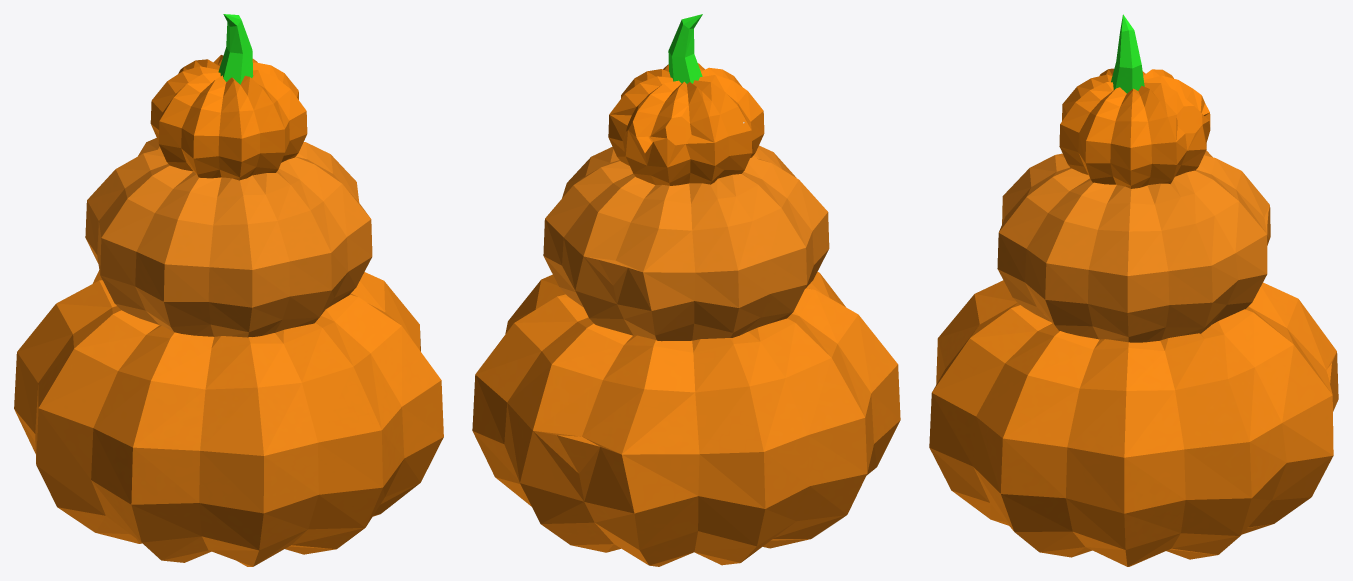
The model's file is Abobora_04_Root.fbx.
3 renders of one model, left to right at view 1: azimuth 30°, elevation 25°; view 2: azimuth 150°, elevation 25°; view 3: azimuth 270°, elevation 25°, orthographic. The views are drawn at different scales.
Parts seen in each view (by area): view 1: Abobora_04_frag_087, Abobora_04_frag_043, Abobora_04_frag_016, Abobora_04_frag_115, Abobora_04_frag_121, Abobora_04_frag_035, Abobora_04_frag_056, Abobora_04_frag_044, Abobora_04_frag_045, Abobora_04_frag_049, Abobora_04_frag_011, Abobora_04_frag_116 (+29 smaller); view 2: Abobora_04_frag_033, Abobora_04_frag_029, Abobora_04_frag_110, Abobora_04_frag_075, Abobora_04_frag_083, Abobora_04_frag_007, Abobora_04_frag_060, Abobora_04_frag_070, Abobora_04_frag_050, Abobora_04_frag_058, Abobora_04_frag_027, Abobora_04_frag_114 (+33 smaller); view 3: Abobora_04_frag_054, Abobora_04_frag_039, Abobora_04_frag_051, Abobora_04_frag_048, Abobora_04_frag_041, Abobora_04_frag_090, Abobora_04_frag_017, Abobora_04_frag_066, Abobora_04_frag_018, Abobora_04_frag_033, Abobora_04_frag_014, Abobora_04_frag_072 (+31 smaller).
Boxes of the visible parts, bbox=[...] form: Abobora_04_frag_087: bbox=[171, 374, 292, 524]; Abobora_04_frag_043: bbox=[280, 385, 395, 503]; Abobora_04_frag_016: bbox=[95, 369, 196, 480]; Abobora_04_frag_115: bbox=[36, 386, 113, 509]; Abobora_04_frag_121: bbox=[278, 329, 391, 441]; Abobora_04_frag_035: bbox=[228, 233, 328, 336]; Abobora_04_frag_056: bbox=[109, 461, 207, 560]; Abobora_04_frag_044: bbox=[82, 312, 228, 380]; Abobora_04_frag_045: bbox=[107, 258, 228, 336]; Abobora_04_frag_049: bbox=[98, 194, 203, 287]; Abobora_04_frag_011: bbox=[163, 164, 291, 259]; Abobora_04_frag_116: bbox=[165, 62, 282, 134]; Abobora_04_frag_033: bbox=[608, 73, 743, 183]; Abobora_04_frag_029: bbox=[708, 320, 840, 411]; Abobora_04_frag_110: bbox=[582, 173, 703, 268]; Abobora_04_frag_075: bbox=[563, 221, 679, 333]; Abobora_04_frag_083: bbox=[513, 357, 596, 497]; Abobora_04_frag_007: bbox=[733, 406, 807, 525]; Abobora_04_frag_060: bbox=[700, 179, 778, 266]; Abobora_04_frag_070: bbox=[550, 363, 619, 508]; Abobora_04_frag_050: bbox=[768, 395, 852, 529]; Abobora_04_frag_058: bbox=[609, 429, 694, 511]; Abobora_04_frag_027: bbox=[599, 334, 712, 390]; Abobora_04_frag_114: bbox=[573, 485, 692, 558]; Abobora_04_frag_054: bbox=[1123, 194, 1241, 337]; Abobora_04_frag_039: bbox=[1029, 355, 1178, 486]; Abobora_04_frag_051: bbox=[1117, 388, 1248, 489]; Abobora_04_frag_048: bbox=[1037, 469, 1160, 566]; Abobora_04_frag_041: bbox=[1063, 98, 1164, 188]; Abobora_04_frag_090: bbox=[1098, 466, 1239, 545]; Abobora_04_frag_017: bbox=[1075, 199, 1151, 298]; Abobora_04_frag_066: bbox=[1178, 340, 1279, 444]; Abobora_04_frag_018: bbox=[1010, 179, 1091, 283]; Abobora_04_frag_033: bbox=[1134, 69, 1210, 186]; Abobora_04_frag_014: bbox=[1029, 337, 1183, 470]; Abobora_04_frag_072: bbox=[950, 396, 1030, 478].
Bounding box in the file's own units: 27.05 × 35.54 × 26.15.
